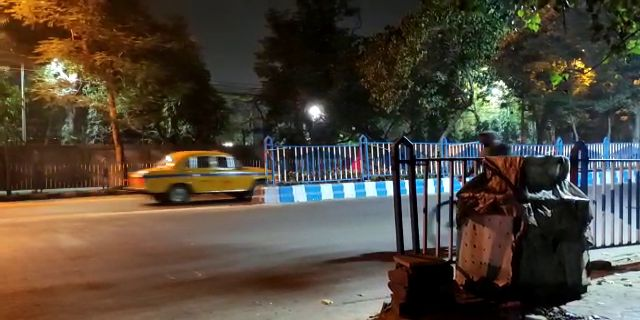Car: (125, 148, 269, 212)
